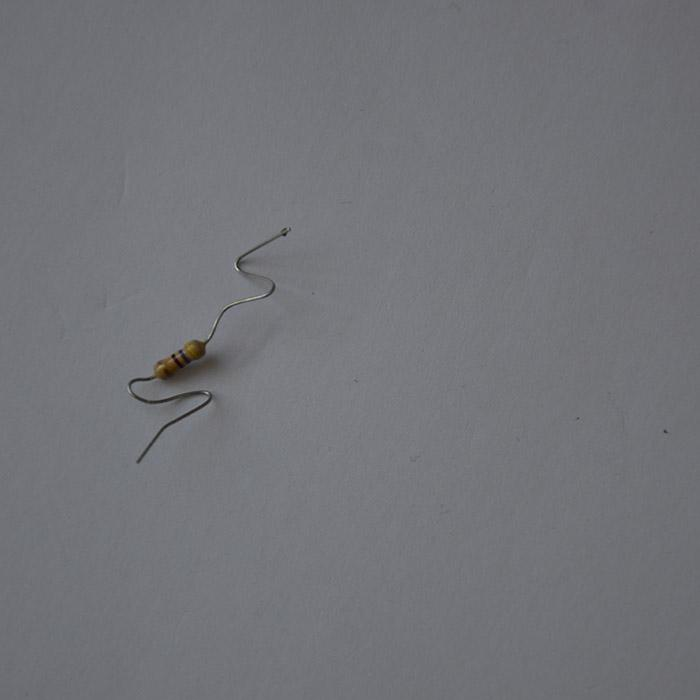resistor: (152, 339, 207, 379)
